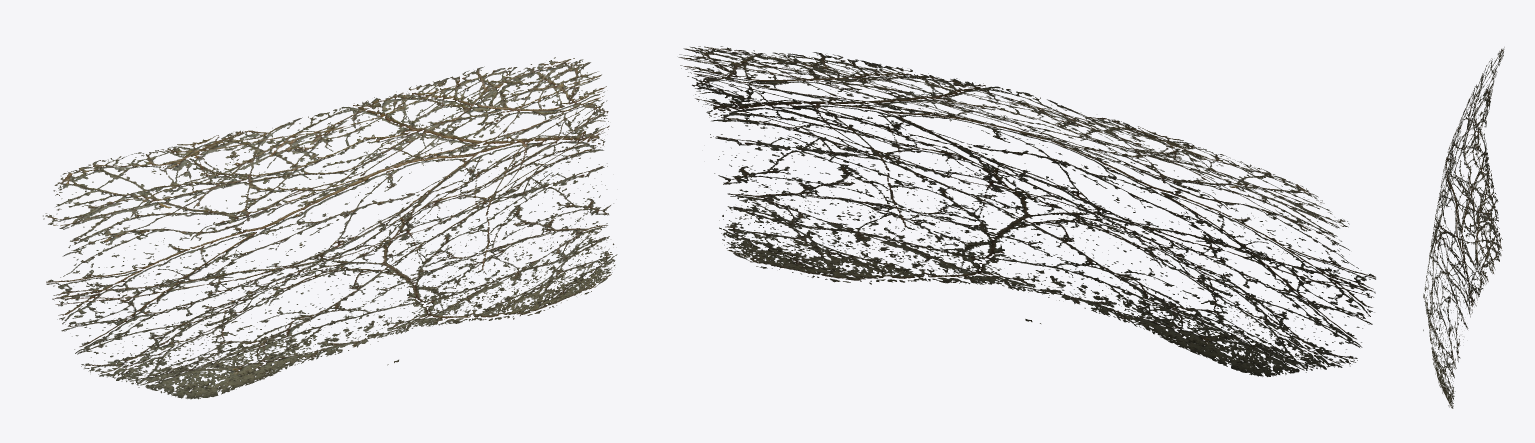
Rendered from ivy_wall_03.fbx.
The picture shows the model from 3 angles, left to right: view 1: azimuth 30°, elevation 25°; view 2: azimuth 150°, elevation 25°; view 3: azimuth 270°, elevation 25°; orthographic projection. The views are drawn at different scales.
Parts seen in each view (by area): view 1: Mesh; view 2: Mesh; view 3: Mesh.
Boxes of the visible parts, left/top/right/bottom form: Mesh: left=43, top=57, right=617, bottom=399; Mesh: left=678, top=46, right=1375, bottom=376; Mesh: left=1423, top=47, right=1504, bottom=408.
Size of the model in its own units: 90675 by 36608 by 17350.
1 material, 1 textured.
